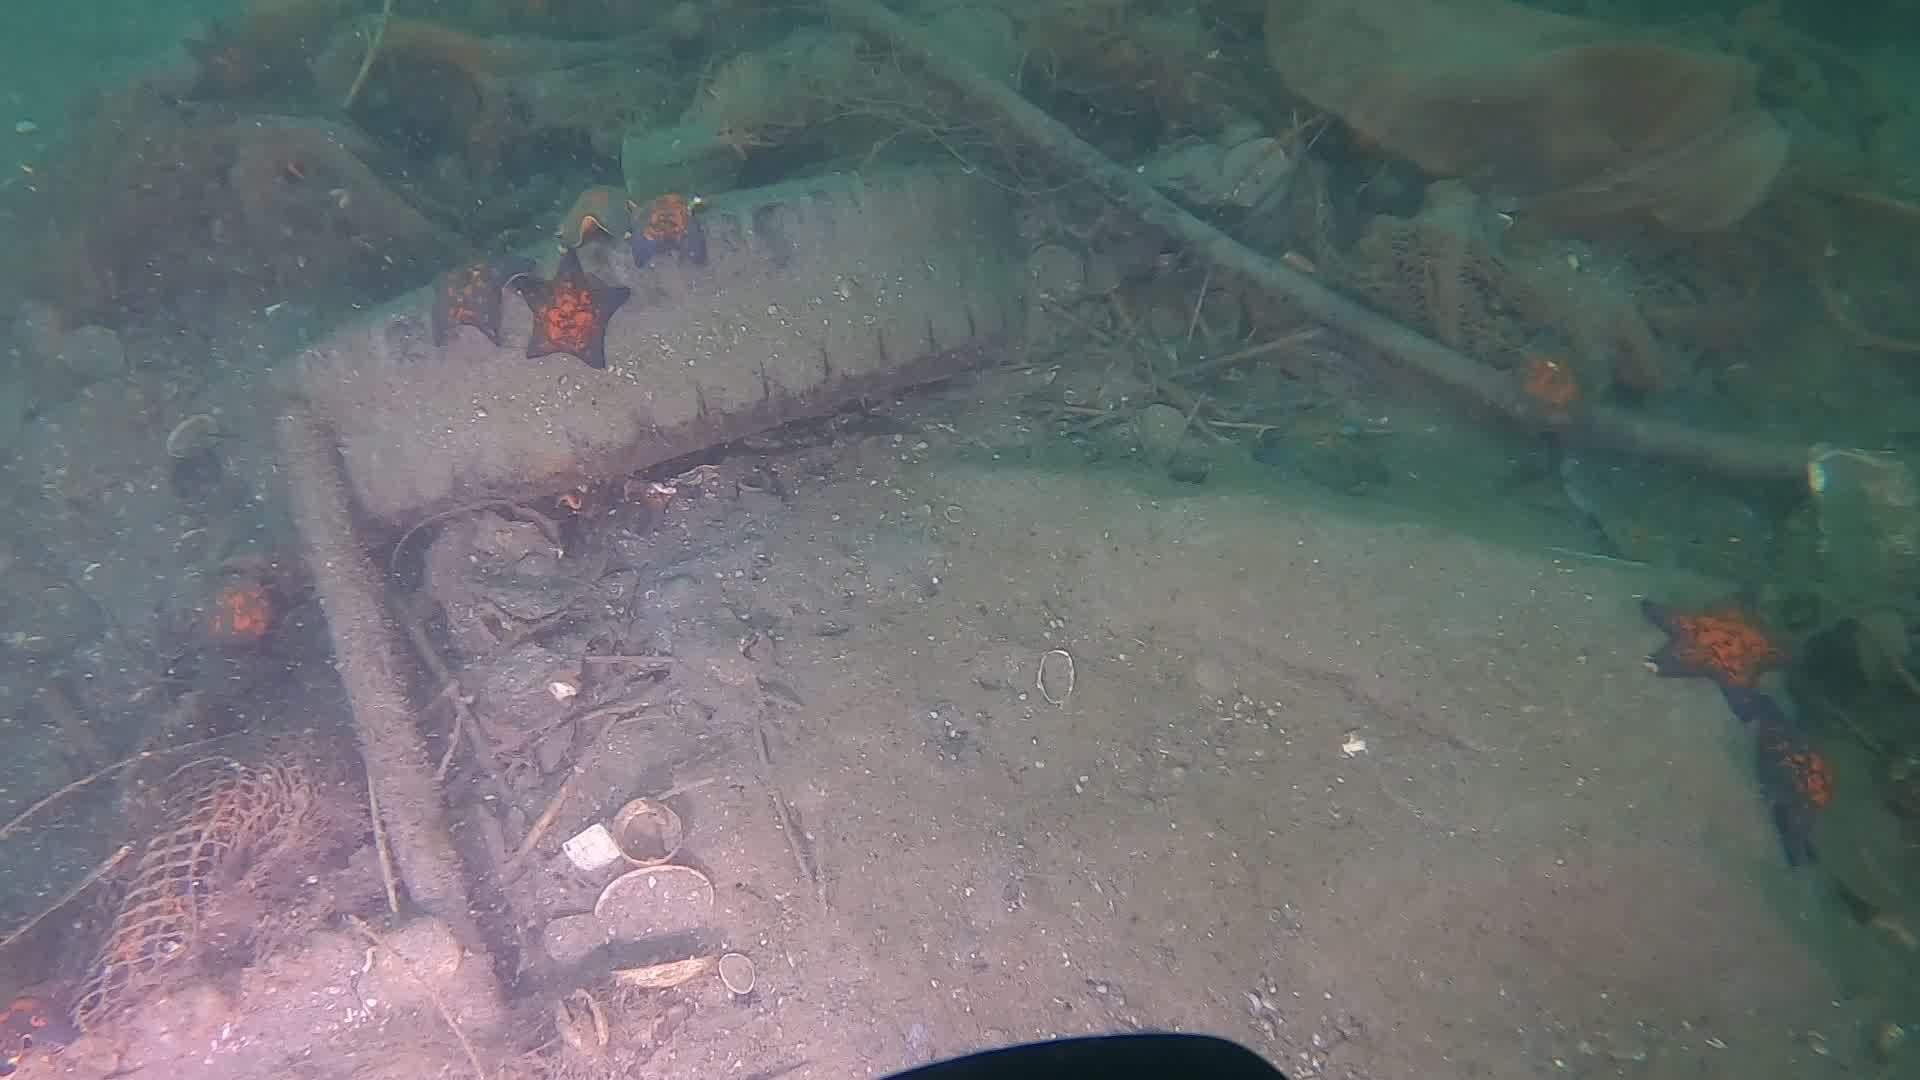fish net: (67, 738, 313, 1033), (1309, 190, 1542, 356)
tire: (272, 162, 1021, 525)
